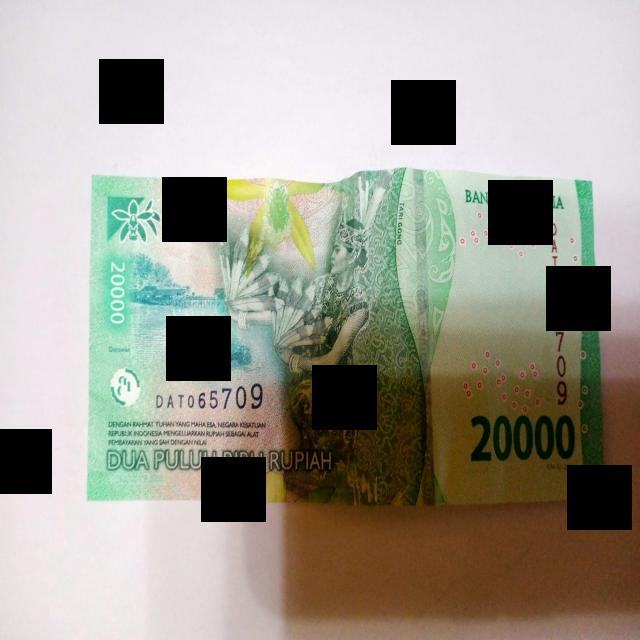dua puluh ribu rupiah: (88, 168, 604, 505)
